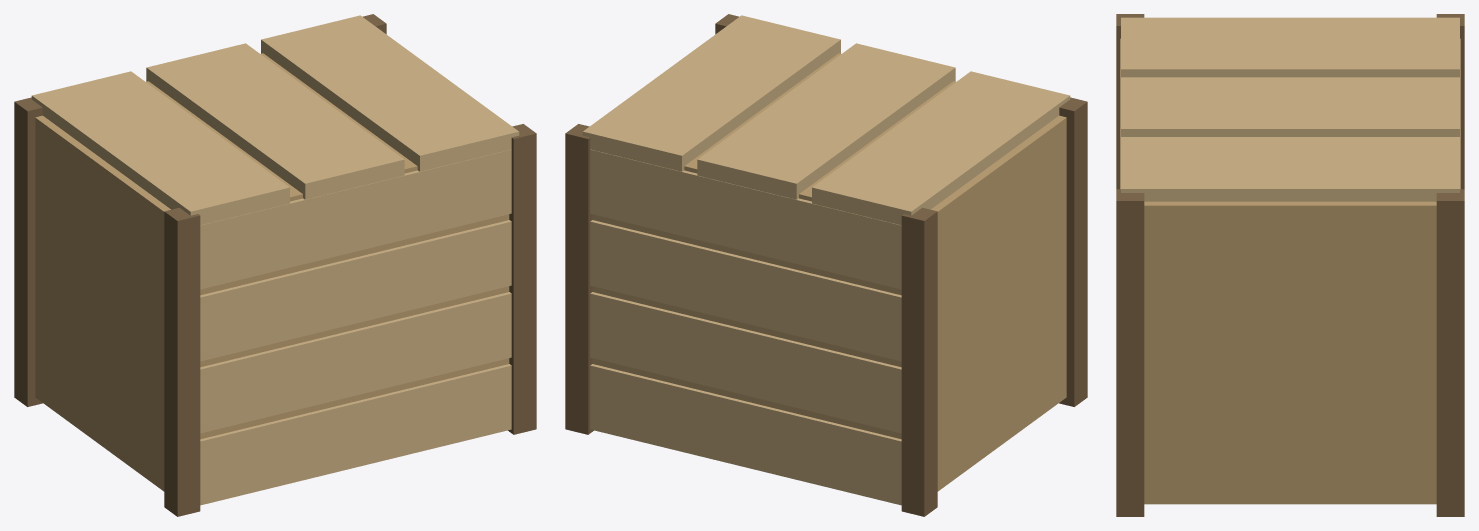
File: Crate1.fbx
The picture shows the model from 3 angles, left to right: view 1: azimuth 30°, elevation 25°; view 2: azimuth 150°, elevation 25°; view 3: azimuth 270°, elevation 25°; orthographic projection. The views are drawn at different scales.
Visible parts, largest first — view 1: Crate_SlF2; view 2: Crate_SlF2; view 3: Crate_SlF2.
Boxes of the visible parts, x1,y1,x2,y2 form: Crate_SlF2: [14, 14, 536, 516]; Crate_SlF2: [565, 14, 1087, 516]; Crate_SlF2: [1116, 14, 1464, 516].
Size of the model in its own units: 0.47 by 0.375 by 0.37.
